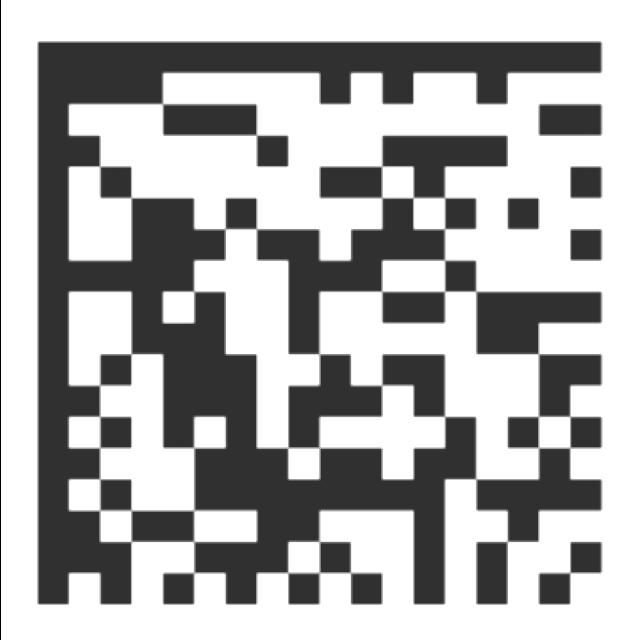DataMatrix: (14, 14, 620, 626)
